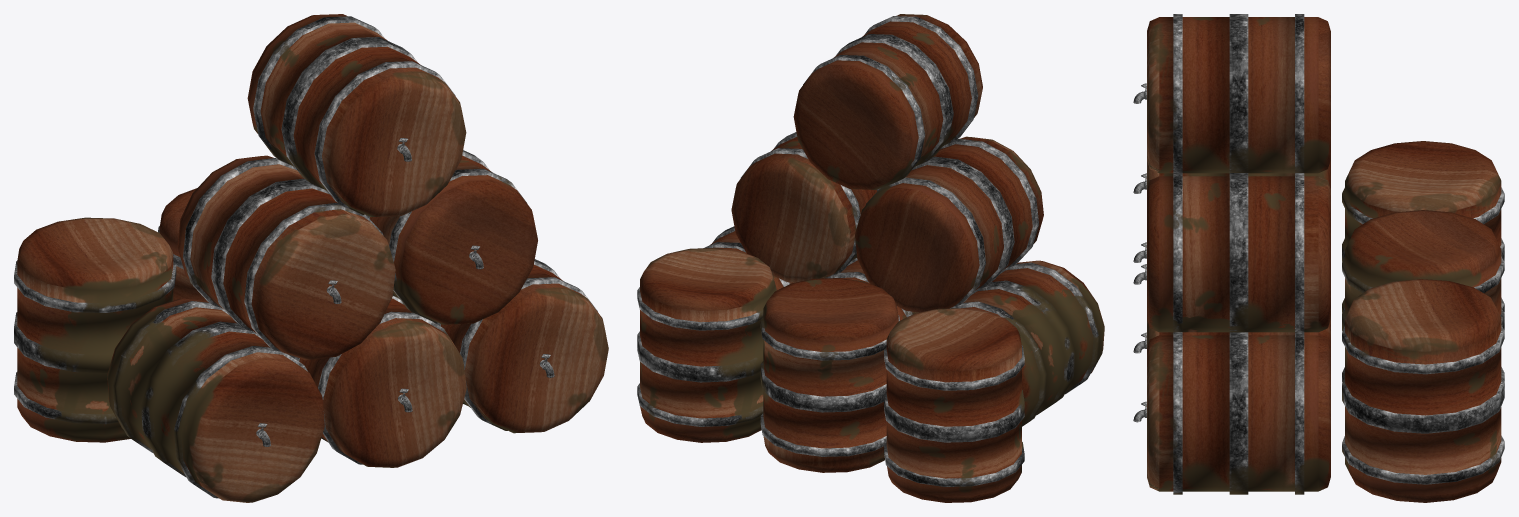
3 views of the same model, side by side, from view 1: azimuth 30°, elevation 25°; view 2: azimuth 150°, elevation 25°; view 3: azimuth 270°, elevation 25° (orthographic). The views are drawn at different scales.
Visible parts, largest first — view 1: Barrel.006, Barrel.003, Barrel.004, Barrel.009, Barrel.005, Barrel, Barrel.002, Barrel.008; view 2: Barrel.009, Barrel.006, Barrel.004, Barrel.008, Barrel.007, Barrel.005, Barrel.003, Barrel, Barrel.002; view 3: Barrel.007, Barrel, Barrel.005, Barrel.006, Barrel.009, Barrel.008, Barrel.004, Barrel.002.
Part boxes in pixels (box(x1,y1,x2,y2)): Barrel.006: box(247, 14, 466, 217); Barrel.003: box(107, 298, 324, 502); Barrel.004: box(177, 155, 395, 360); Barrel.009: box(14, 217, 176, 442); Barrel.005: box(366, 150, 537, 324); Barrel: box(434, 259, 608, 433); Barrel.002: box(289, 296, 466, 467); Barrel.008: box(158, 188, 206, 300); Barrel.009: box(884, 308, 1024, 502); Barrel.006: box(793, 14, 982, 189); Barrel.004: box(855, 136, 1043, 312); Barrel.008: box(760, 278, 899, 472); Barrel.007: box(637, 248, 776, 442); Barrel.005: box(731, 132, 880, 282); Barrel.003: box(950, 260, 1104, 426); Barrel: box(703, 226, 793, 290); Barrel.002: box(828, 258, 918, 320); Barrel.007: box(1342, 279, 1504, 502); Barrel: box(1147, 332, 1330, 494); Barrel.005: box(1147, 173, 1330, 332); Barrel.006: box(1147, 14, 1330, 173); Barrel.009: box(1342, 141, 1504, 312); Barrel.008: box(1342, 210, 1504, 381); Barrel.004: box(1147, 159, 1330, 189); Barrel.002: box(1147, 319, 1330, 348).
Size of the model in its own units: 9.72 by 8.19 by 6.94.
1 material, 1 textured.
